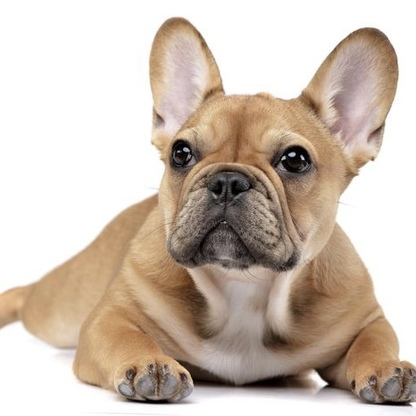bulldog: (37, 15, 416, 412)
